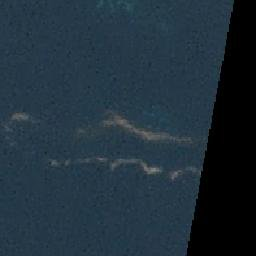debris: (109, 157, 142, 169), (108, 112, 130, 129), (159, 133, 189, 143), (142, 164, 166, 175), (132, 128, 158, 138), (9, 112, 31, 120), (87, 156, 107, 164), (169, 169, 184, 179), (61, 157, 73, 165), (50, 159, 58, 167)
